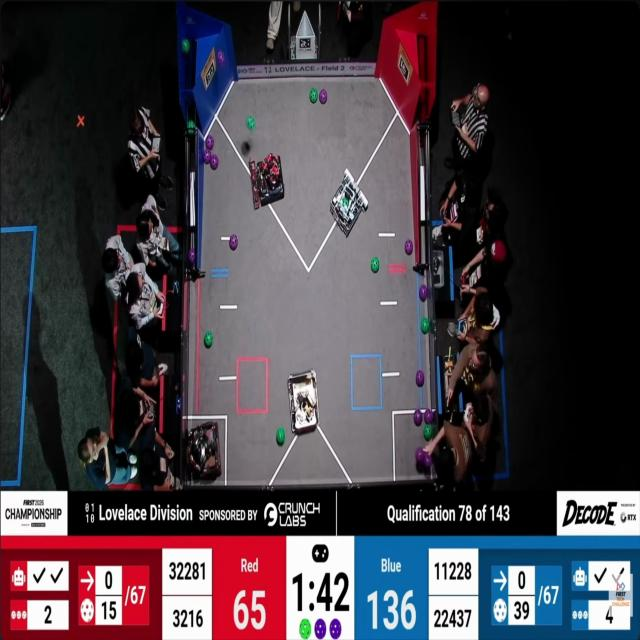artifact_green: (299, 619, 311, 640), (424, 424, 434, 441), (370, 257, 380, 273), (425, 409, 436, 423), (414, 409, 423, 426), (277, 427, 285, 446), (421, 318, 430, 334), (204, 332, 213, 348), (210, 155, 219, 170), (310, 88, 318, 104), (182, 39, 190, 54), (187, 120, 195, 135), (247, 115, 255, 130), (342, 198, 349, 207)
artifact_purple: (315, 619, 326, 639), (330, 619, 341, 639), (416, 448, 426, 466), (425, 408, 435, 424), (229, 234, 238, 251), (419, 285, 428, 302), (205, 135, 214, 151), (416, 370, 424, 387), (414, 410, 422, 426), (423, 454, 432, 468), (405, 240, 413, 255), (217, 51, 225, 65), (319, 90, 327, 104), (210, 155, 218, 169), (204, 149, 211, 164), (189, 248, 195, 264)
